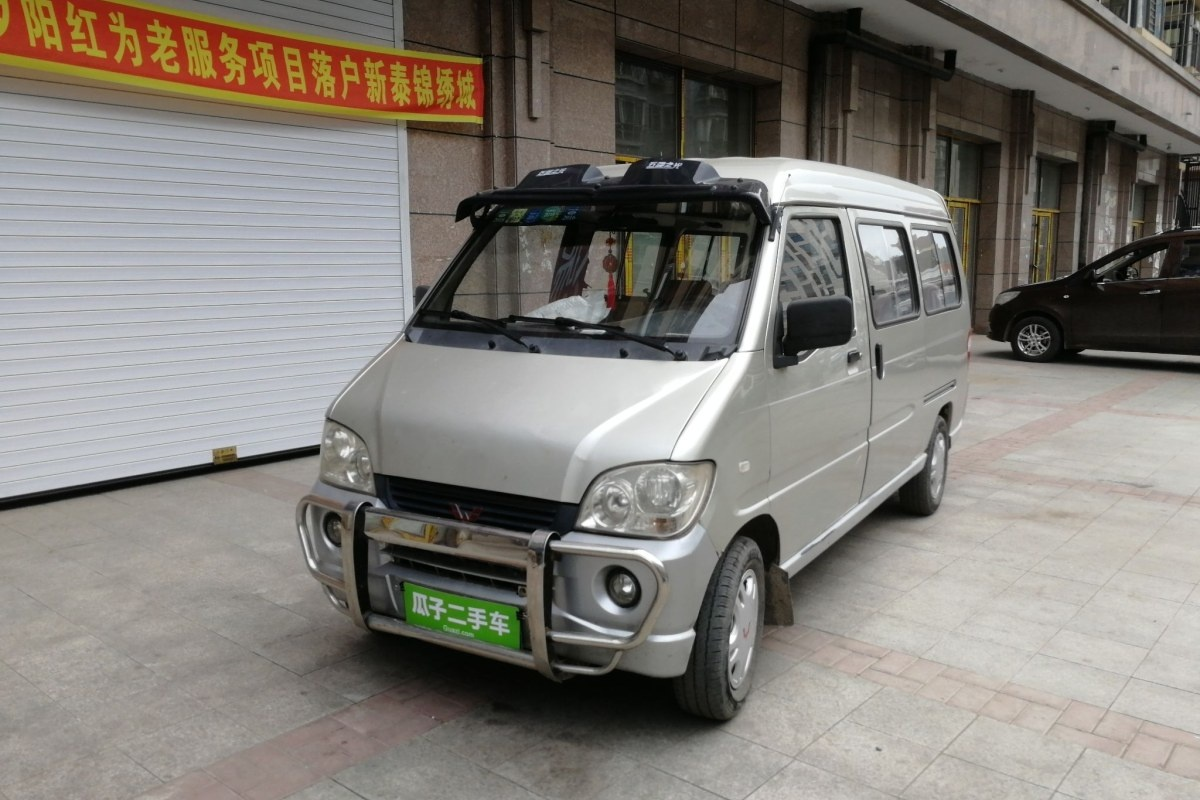minibus: (301, 151, 995, 725)
